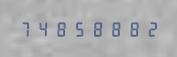eight: (53, 20, 70, 37), (89, 20, 106, 37), (107, 20, 124, 37), (125, 20, 142, 37)
five: (71, 20, 88, 37)
four: (35, 20, 52, 37)
seven: (17, 20, 34, 37)
two: (143, 20, 160, 37)
